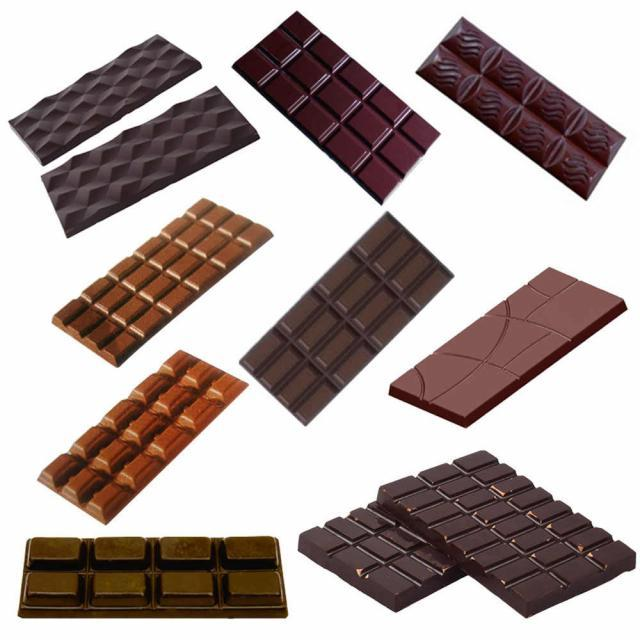Chocolate bar packaged: (238, 211, 453, 426), (374, 450, 640, 619), (413, 13, 630, 208), (385, 264, 630, 432), (33, 349, 249, 525), (49, 198, 273, 365), (40, 82, 262, 242), (7, 33, 203, 167), (15, 531, 289, 623)
